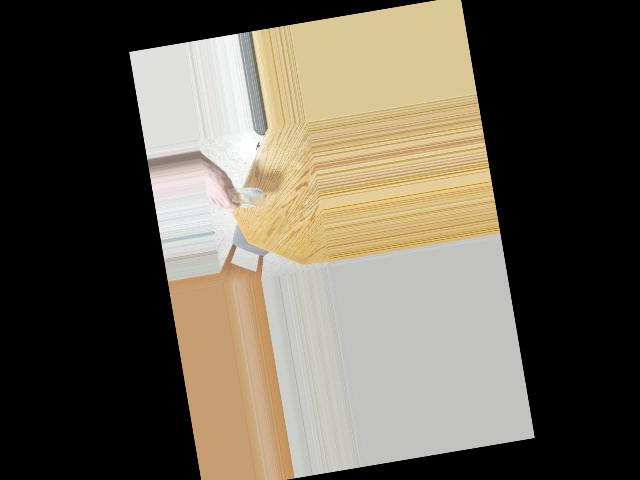cheese: (214, 166, 268, 221)
